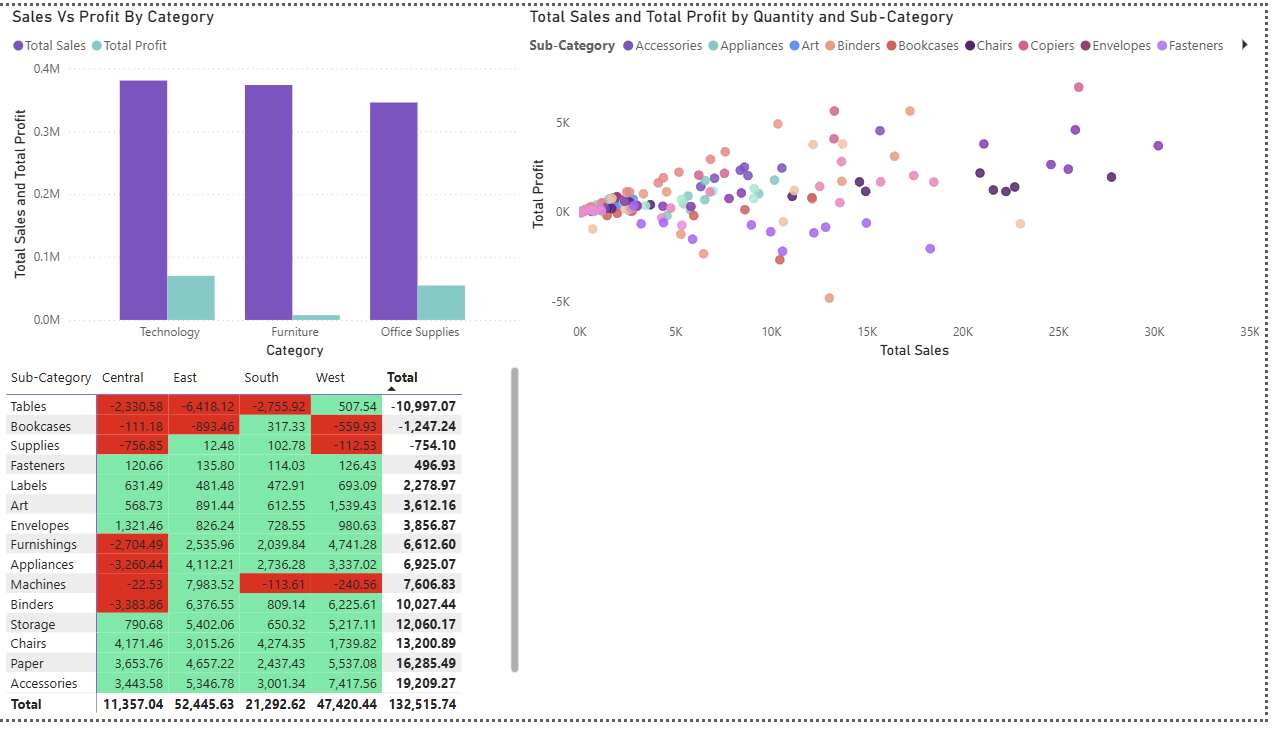

This screenshot's page, from the dashboard's own definition file:
{"tool":"powerbi","page":{"name":"Product Analysis","canvas":[1280,720],"ordinal":1},"visuals":[{"type":"clusteredColumnChart","title":"Sales Vs Profit By Category","fields":{"Category":["Orders.Category"],"Y":["_Measures.Total Sales","_Measures.Total Profit"]},"box":[9.2,0,523.1,359.8],"z":0},{"type":"pivotTable","fields":{"Rows":["Orders.Sub-Category"],"Columns":["Orders.Region"],"Values":["_Measures.Total Profit"]},"box":[3.7,359.8,528.6,359.8],"z":1000},{"type":"scatterChart","fields":{"X":["_Measures.Total Sales"],"Y":["_Measures.Total Profit"],"Category":["Orders.Quantity"],"Series":["Orders.Sub-Category"]},"box":[532.3,0,747.1,359.8],"z":2000}]}

Visuals, with their boxes in screenshot pixels (x1, y1, x2, y2), scaled from the page's 1280x720 canvas onto the 1288x732 screenshot:
"Sales Vs Profit By Category" clusteredColumnChart: box(9, 0, 536, 366)
pivotTable - Orders.Sub-Category x Orders.Region: box(4, 366, 536, 731)
scatterChart - _Measures.Total Sales x _Measures.Total Profit: box(536, 0, 1287, 366)
